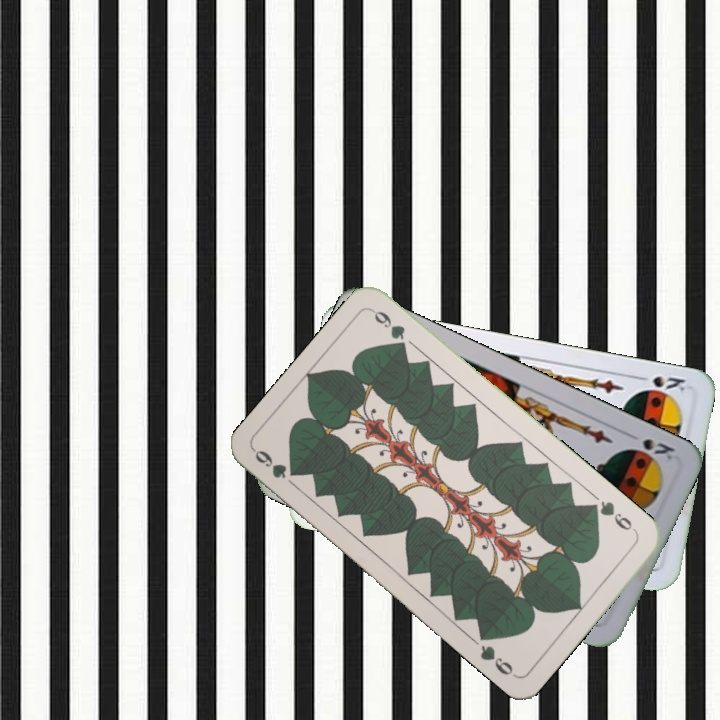G9: (585, 497, 640, 536), (250, 446, 301, 481)
SK: (622, 428, 678, 463), (631, 371, 688, 394)
